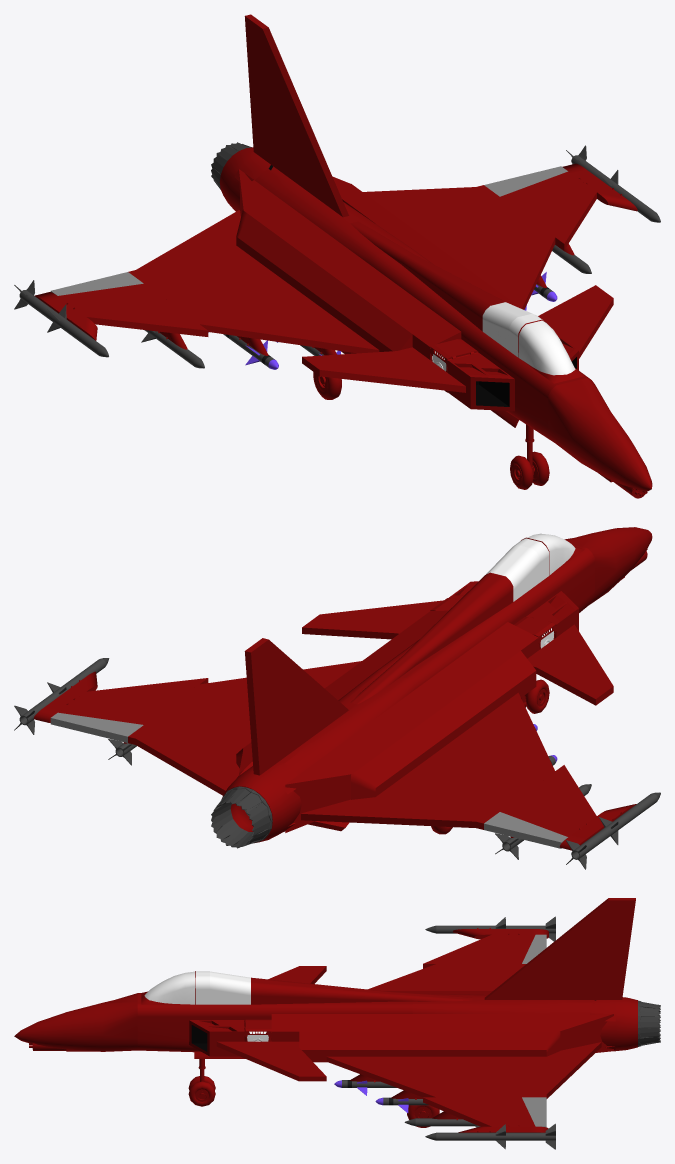
Rendered from Pigpen_export.obj.
The picture shows the model from 3 angles, top to bottom: view 1: azimuth 30°, elevation 25°; view 2: azimuth 150°, elevation 25°; view 3: azimuth 270°, elevation 25°; orthographic projection. The views are drawn at different scales.
Parts seen in each view (by area): view 1: Mesh_103, Mesh_68, Mesh_118, Mesh_1, Mesh_104, Mesh_69, Mesh_85, Mesh_84, Mesh_0, Mesh_81, Mesh_91, Mesh_83 (+22 smaller); view 2: Mesh_103, Mesh_68, Mesh_118, Mesh_84, Body_8, Mesh_85, Mesh_69, Mesh_104, Mesh_5, Mesh_81, Mesh_83, Mesh_80 (+24 smaller); view 3: Mesh_68, Mesh_118, Mesh_1, Mesh_0, Mesh_49, Mesh_48, Mesh_103, Mesh_50, Mesh_5, Mesh_46, Mesh_69, Body_8 (+25 smaller).
Boxes of the visible parts, left/top/right/bottom form: Mesh_103: left=128, top=245, right=379, bottom=353; Mesh_68: left=386, top=185, right=555, bottom=309; Mesh_118: left=244, top=14, right=348, bottom=217; Mesh_1: left=548, top=378, right=652, bottom=491; Mesh_104: left=58, top=283, right=208, bottom=336; Mesh_69: left=500, top=171, right=596, bottom=249; Mesh_85: left=341, top=266, right=461, bottom=360; Mesh_84: left=307, top=269, right=412, bottom=351; Mesh_0: left=459, top=320, right=590, bottom=442; Mesh_81: left=252, top=201, right=371, bottom=281; Mesh_91: left=302, top=351, right=441, bottom=389; Mesh_83: left=236, top=210, right=322, bottom=297; Mesh_103: left=376, top=692, right=554, bottom=829; Mesh_68: left=128, top=661, right=361, bottom=762; Mesh_118: left=244, top=638, right=348, bottom=755; Mesh_84: left=432, top=651, right=536, bottom=744; Body_8: left=222, top=741, right=325, bottom=843; Mesh_85: left=419, top=622, right=538, bottom=702; Mesh_69: left=58, top=678, right=208, bottom=724; Mesh_104: left=500, top=765, right=596, bottom=836; Mesh_5: left=403, top=572, right=513, bottom=665; Mesh_81: left=329, top=687, right=448, bottom=767; Mesh_83: left=351, top=716, right=446, bottom=799; Mesh_80: left=301, top=797, right=475, bottom=827; Mesh_68: left=326, top=1056, right=546, bottom=1097; Mesh_118: left=484, top=898, right=635, bottom=999; Mesh_1: left=14, top=993, right=137, bottom=1051; Mesh_0: left=137, top=993, right=274, bottom=1052; Mesh_49: left=299, top=1031, right=436, bottom=1062; Mesh_48: left=436, top=1031, right=560, bottom=1056; Mesh_103: left=368, top=964, right=525, bottom=990; Mesh_50: left=271, top=1014, right=408, bottom=1041; Mesh_5: left=251, top=977, right=388, bottom=1004; Mesh_46: left=409, top=1014, right=546, bottom=1031; Mesh_69: left=423, top=1097, right=535, bottom=1126; Body_8: left=550, top=997, right=637, bottom=1051.
Size of the model in its own units: 9.24 by 4.14 by 11.77.
Materials: 1 (1 with a texture image).
